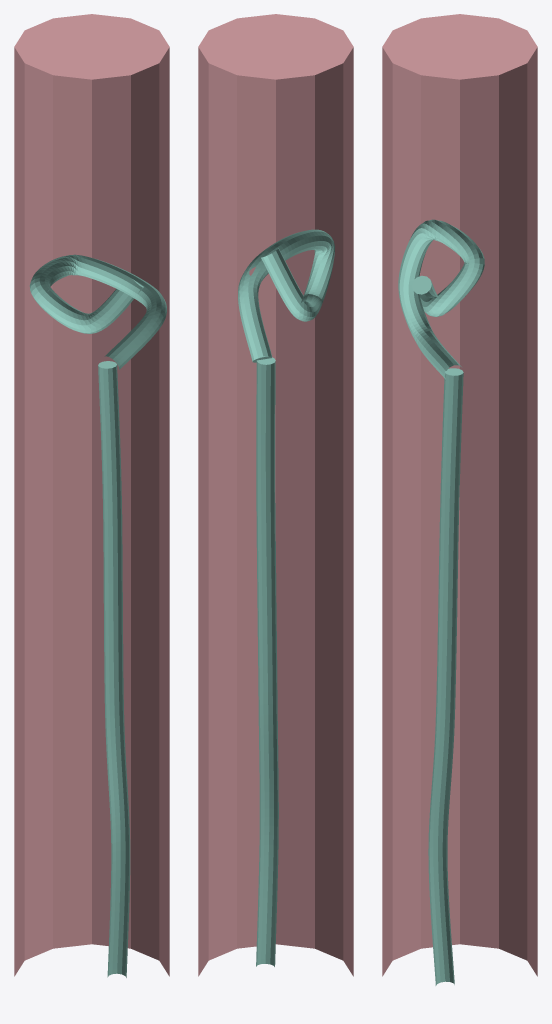
Rendered from devices_coil.glb.
3 views of the same model, side by side, from view 1: azimuth 30°, elevation 25°; view 2: azimuth 150°, elevation 25°; view 3: azimuth 270°, elevation 25° (orthographic).
Parts seen in each view (by area): view 1: Vaso de referência, Microcateter — linha didática, Coil endossacular — geometria abstrata; view 2: Vaso de referência, Microcateter — linha didática, Coil endossacular — geometria abstrata; view 3: Vaso de referência, Microcateter — linha didática, Coil endossacular — geometria abstrata.
Boxes of the visible parts, x1,y1,x2,y2 form: Vaso de referência: (14,14,169,976); Microcateter — linha didática: (98,361,130,977); Coil endossacular — geometria abstrata: (29,254,166,369); Vaso de referência: (198,14,353,976); Microcateter — linha didática: (256,356,278,966); Coil endossacular — geometria abstrata: (238,229,334,362); Vaso de referência: (382,14,537,976); Microcateter — linha didática: (428,368,463,985); Coil endossacular — geometria abstrata: (398,219,484,379).
Size of the model in its own units: 1.06 by 7 by 1.06.
